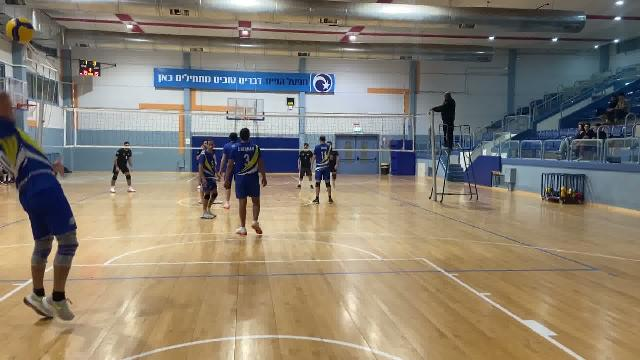ball: (5, 16, 38, 48)
